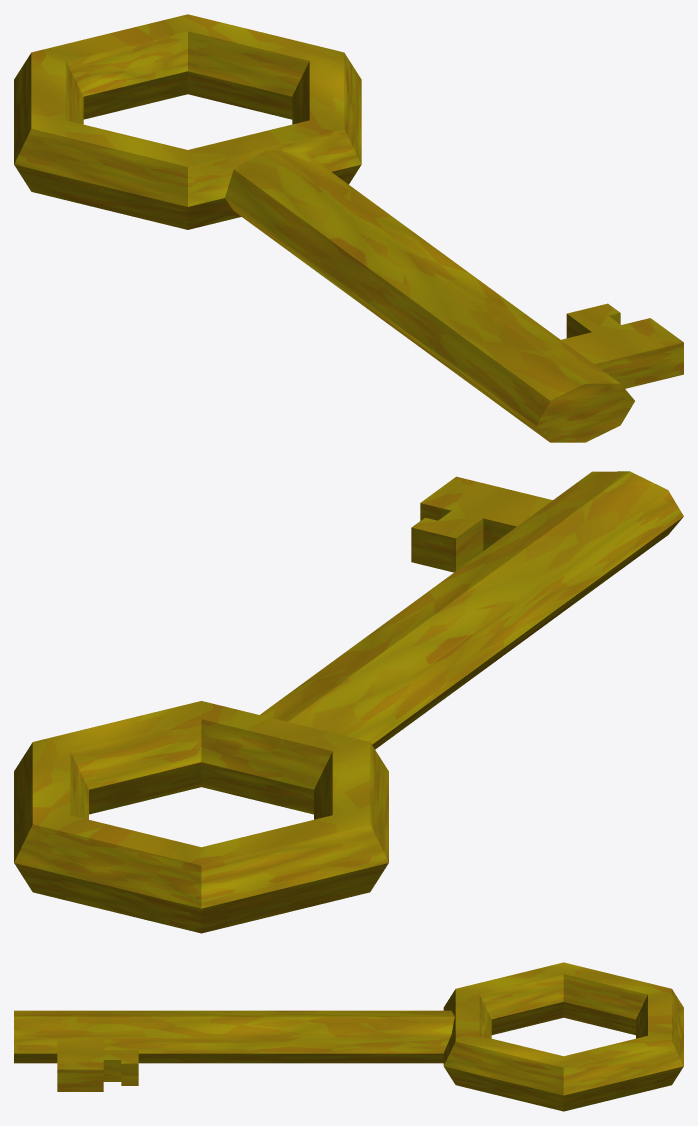
Rendered from Atslega.fbx.
3 renders of one model, top to bottom at view 1: azimuth 30°, elevation 25°; view 2: azimuth 150°, elevation 25°; view 3: azimuth 270°, elevation 25°, orthographic. The views are drawn at different scales.
Parts seen in each view (by area): view 1: Cube; view 2: Cube; view 3: Cube.
Part boxes in pixels (x1,y1,x2,y2): Cube: [14, 14, 683, 442]; Cube: [14, 471, 683, 933]; Cube: [14, 962, 683, 1111].
Size of the model in its own units: 511 by 88.54 by 1234.
